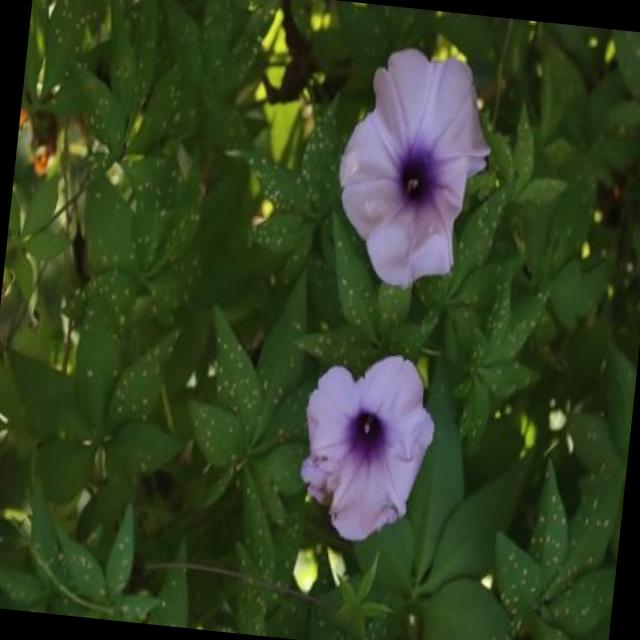ipomoea: (324, 38, 502, 299), (290, 341, 444, 552)
